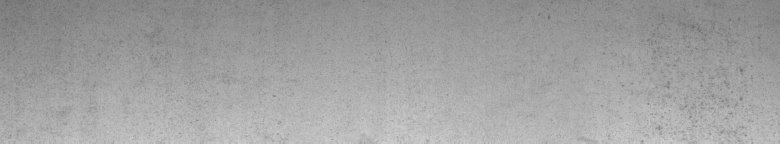ib: (652, 20, 752, 134)
